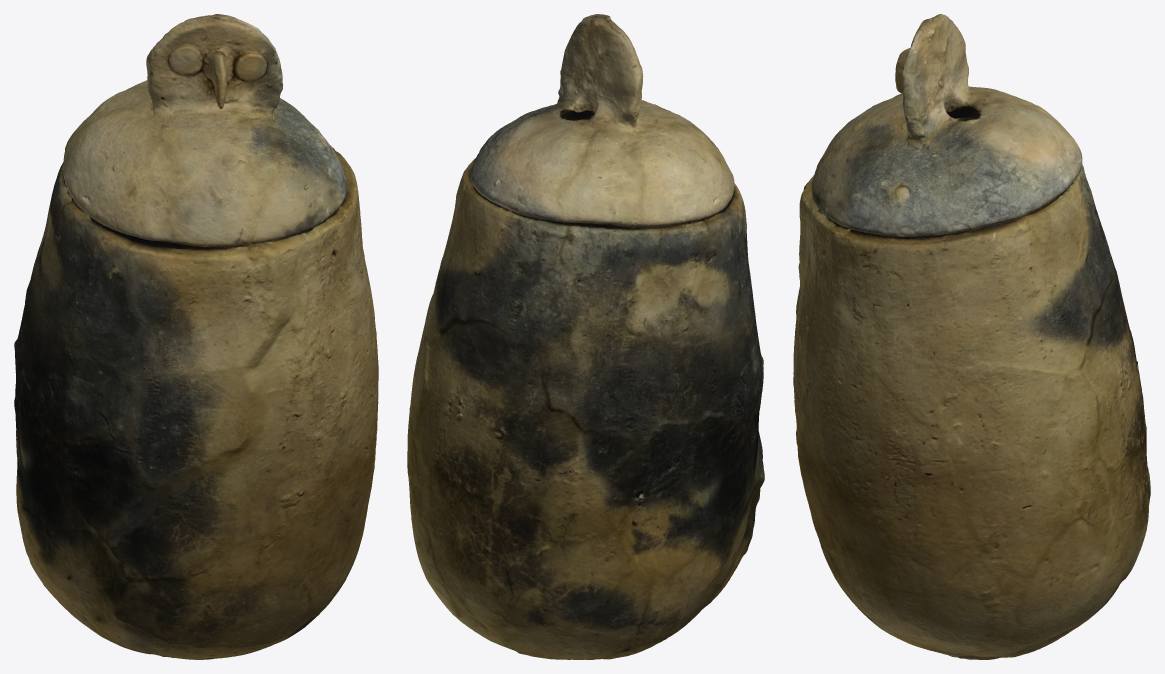
3 renders of one model, left to right at view 1: azimuth 30°, elevation 25°; view 2: azimuth 150°, elevation 25°; view 3: azimuth 270°, elevation 25°, orthographic. The views are drawn at different scales.
Visible parts, largest first — view 1: Mesh_0.023; view 2: Mesh_0.023; view 3: Mesh_0.023.
Part boxes in pixels (x1,y1,x2,y2): Mesh_0.023: [14, 14, 378, 659]; Mesh_0.023: [407, 14, 764, 659]; Mesh_0.023: [793, 14, 1150, 659].
Size of the model in its own units: 0.0886 by 0.17 by 0.091.
1 material, 1 textured.
